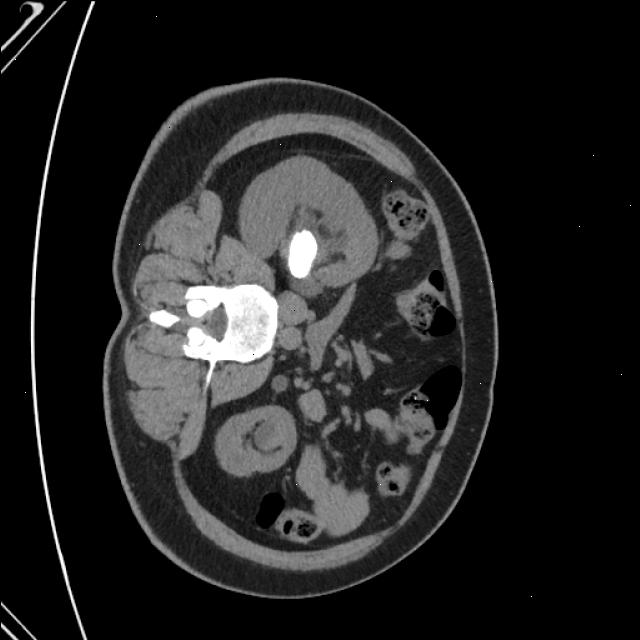kidneystone: (288, 231, 316, 279)
